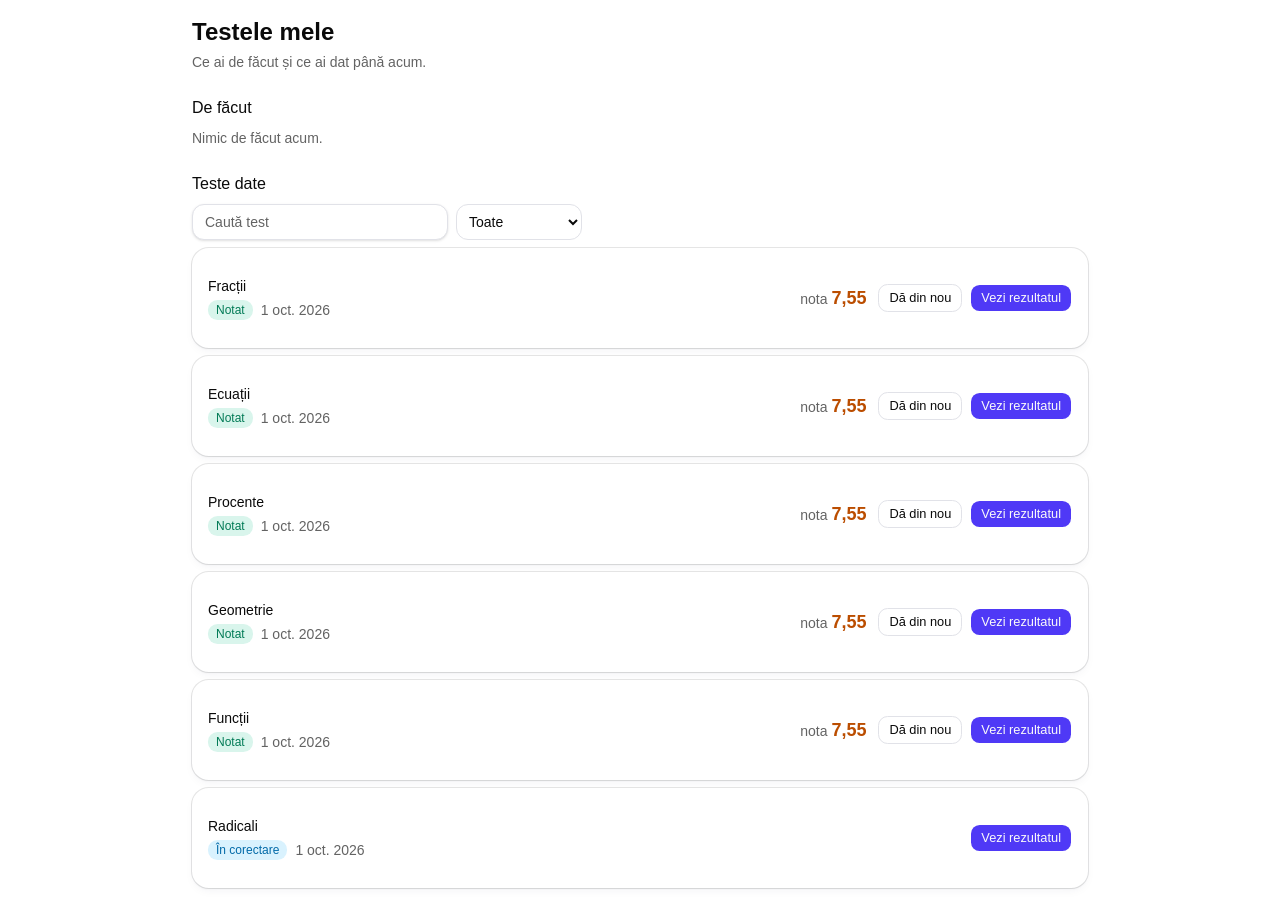
StudentQuizListPage › the tests already taken, once there are five › narrows them by state and by name
The image size is (1280, 900).
Expected: the number of elements with test id "quiz-card" is 6, left=192, top=264, right=1088, bottom=332; left=192, top=372, right=1088, bottom=440; left=192, top=480, right=1088, bottom=548; left=192, top=588, right=1088, bottom=656; left=192, top=696, right=1088, bottom=764; left=192, top=804, right=1088, bottom=872
Select "Așteaptă nota" in the dropdown named "Stare": (519, 222) left=456, top=204, right=582, bottom=240
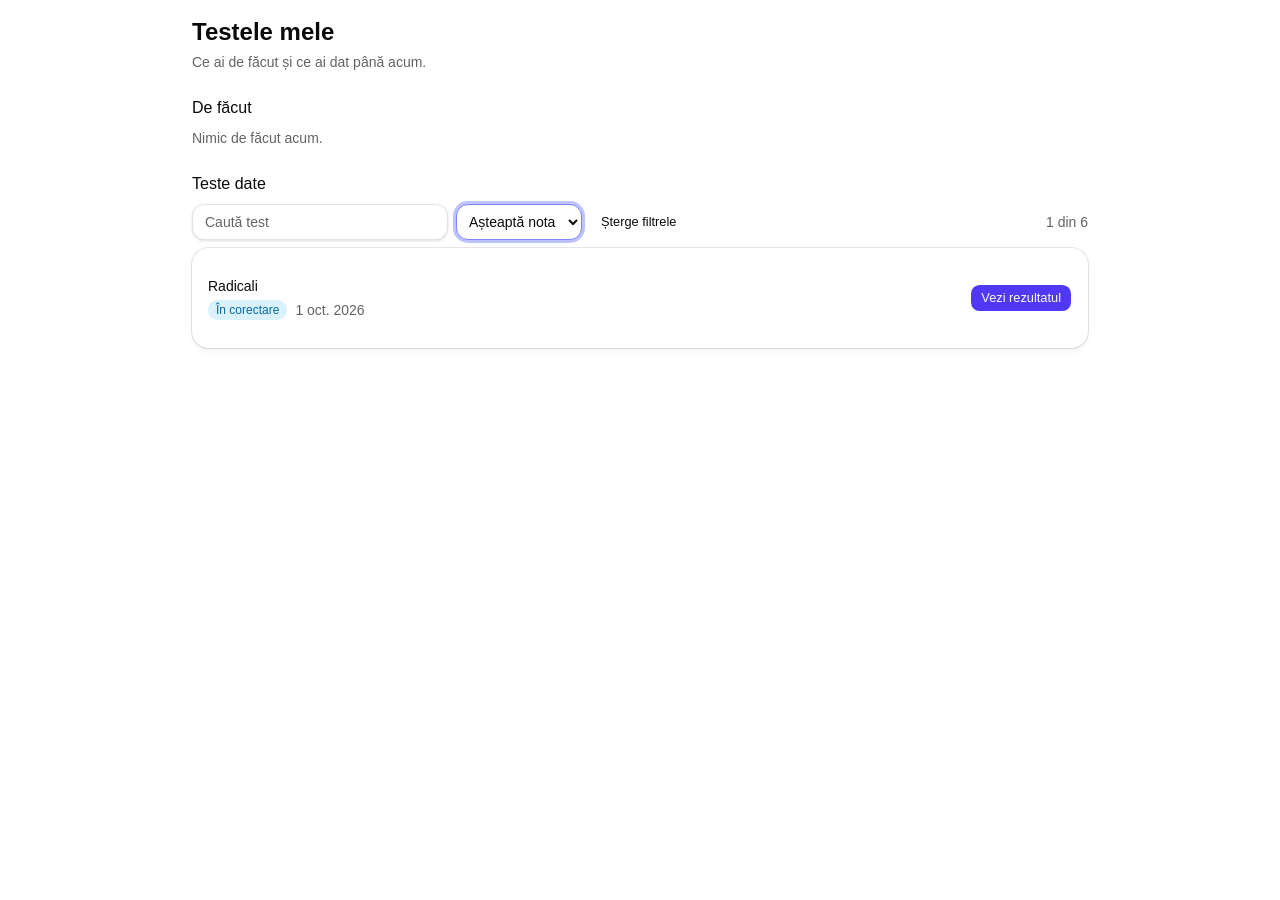
Expected: the text "Radicali" is shown, left=208, top=278, right=258, bottom=294
Now the number of elements with test id "quiz-card" is 1, box left=192, top=264, right=1088, bottom=332
Select "Toate" in the dropdown named "Stare": (519, 222) left=456, top=204, right=582, bottom=240
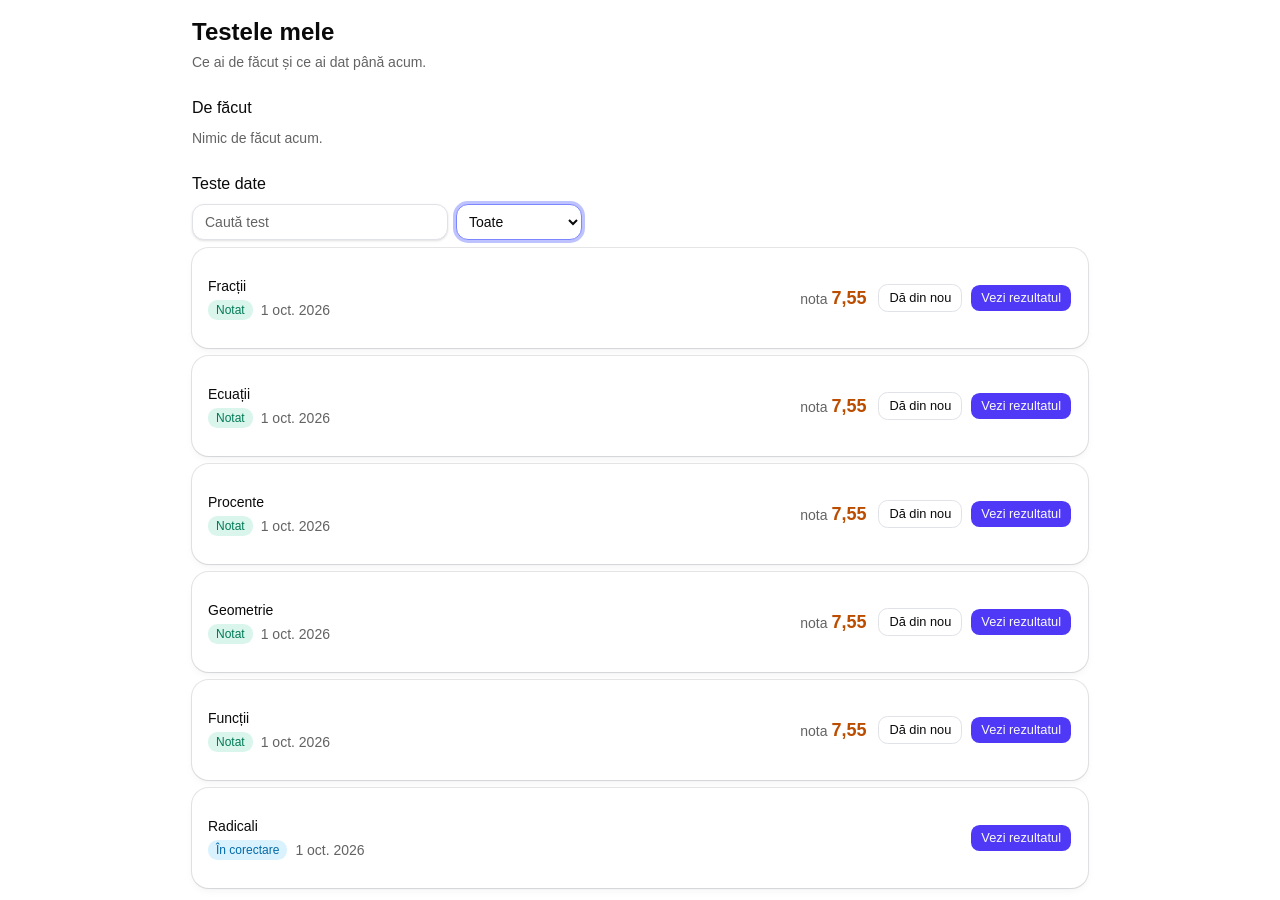
In the search field labelled "Caută test": (320, 222) left=192, top=204, right=448, bottom=240, type "fractii"
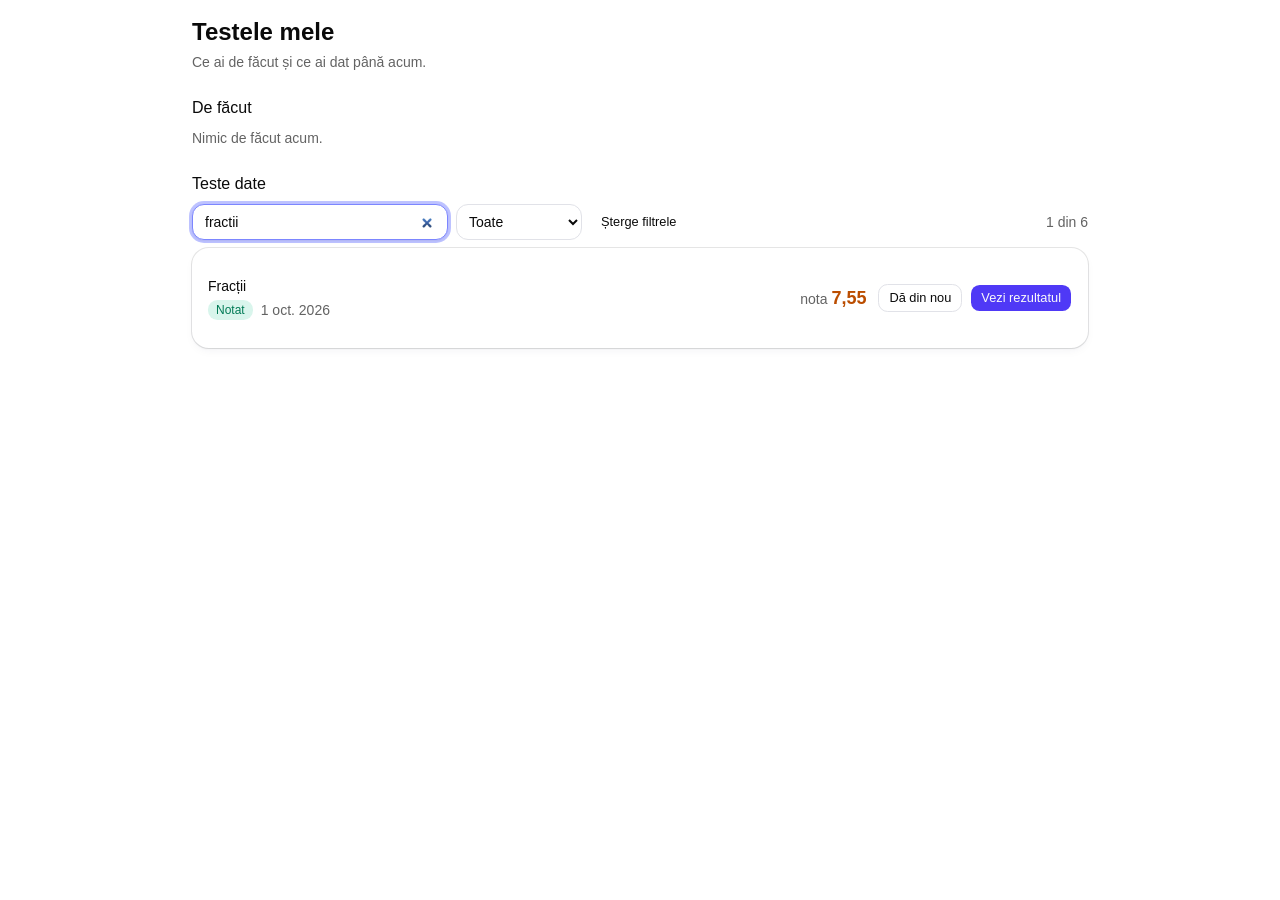
Now the number of elements with test id "quiz-card" is 1, box left=192, top=264, right=1088, bottom=332
In the search field named "Caută test": (320, 222) left=192, top=204, right=448, bottom=240, type "xyz"
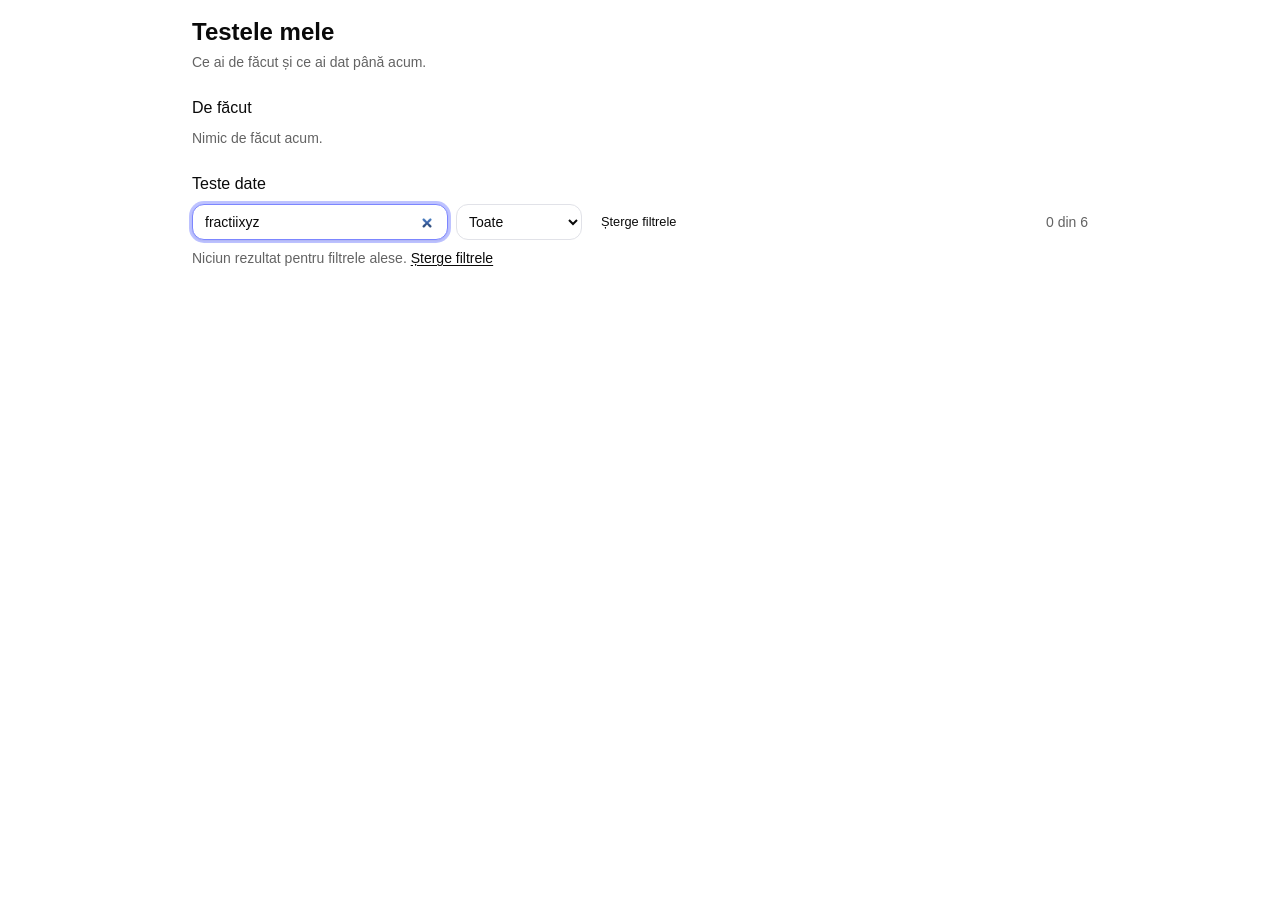
Now the element with test id "no-matches" is shown, box left=192, top=248, right=493, bottom=268
